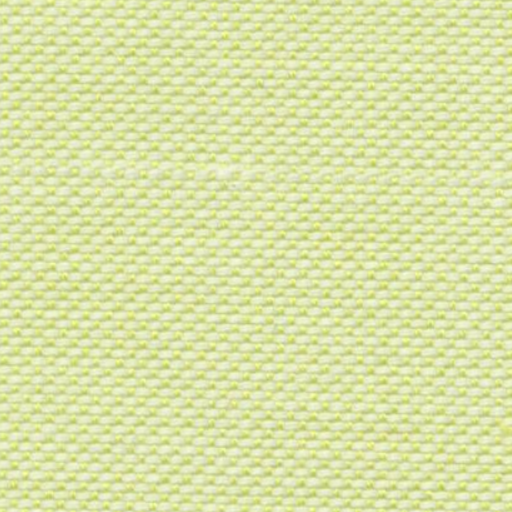TuoSha: (16, 136, 486, 210)
